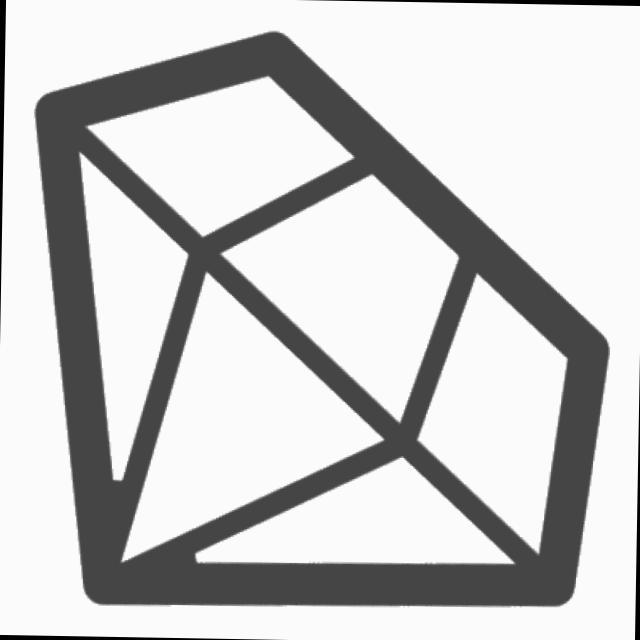diamond: (17, 11, 628, 623)
